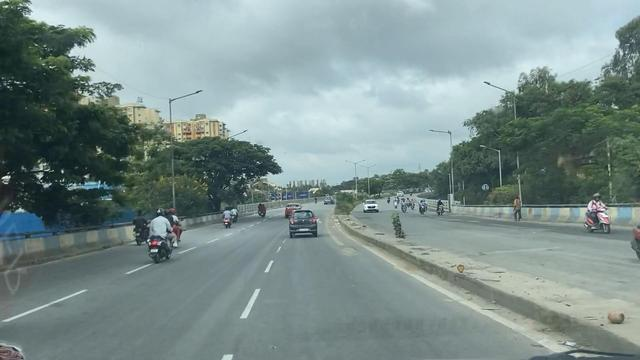LMV: (150, 209, 171, 256), (290, 210, 316, 239), (223, 207, 233, 226)
RoadDamages: (331, 238, 358, 256)
